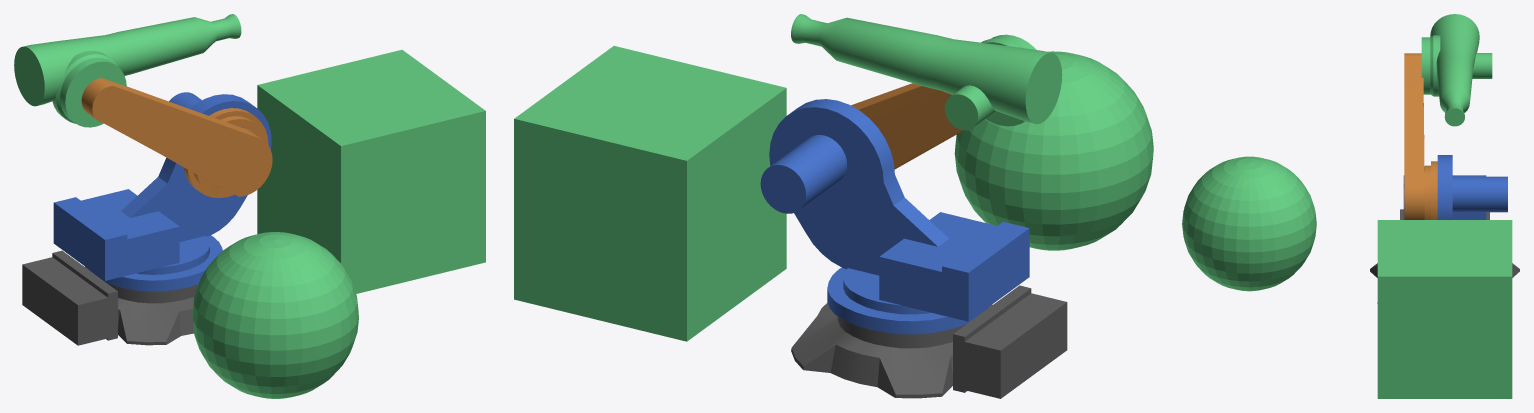
Rendered from RTC_NikolaevVA4.obj.
The picture shows the model from 3 angles, left to right: view 1: azimuth 30°, elevation 25°; view 2: azimuth 150°, elevation 25°; view 3: azimuth 270°, elevation 25°; orthographic projection. The views are drawn at different scales.
Visible parts, largest first — view 1: base, Cube, Sphere; view 2: base, Cube, Sphere; view 3: Cube, Sphere, base.
Boxes of the visible parts, x1,y1,x2,y2 form: base: (14, 14, 272, 345); Cube: (257, 50, 485, 293); Sphere: (192, 232, 358, 398); base: (760, 14, 1067, 398); Cube: (514, 46, 786, 341); Sphere: (954, 51, 1153, 250); Cube: (1377, 220, 1512, 398); Sphere: (1182, 156, 1316, 291); base: (1370, 14, 1519, 303).
Size of the model in its own units: 5.64 by 3.67 by 5.01.
